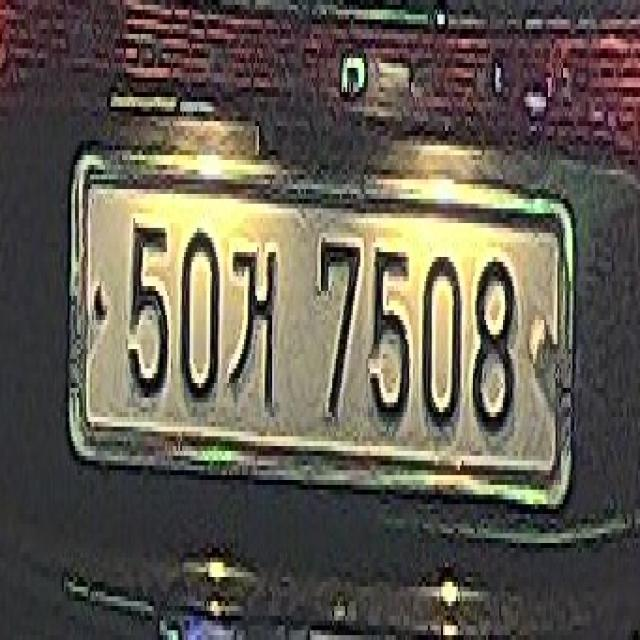0: (419, 250, 466, 425), (181, 224, 221, 424)
5: (370, 239, 415, 436), (128, 218, 171, 404)
7: (313, 231, 362, 433)
8: (471, 250, 519, 454)
geo: (227, 238, 280, 424)
license_plate: (67, 162, 569, 499)
